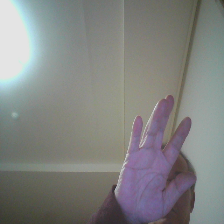hand: (115, 91, 196, 224)
